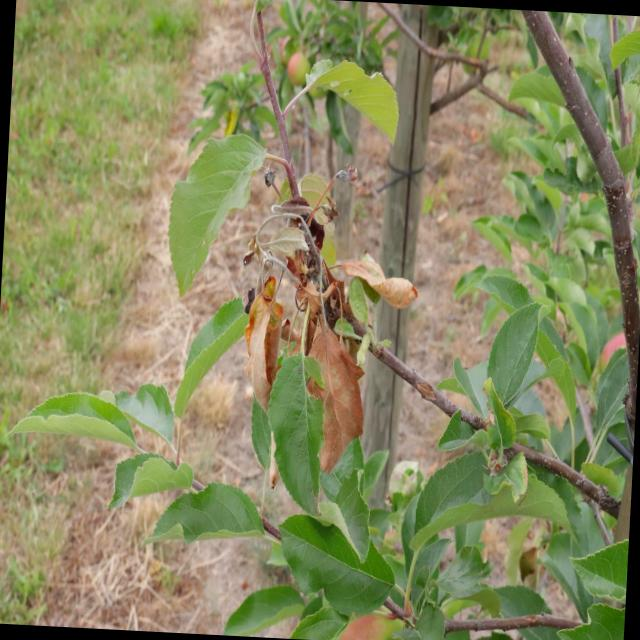-FireBlight-: (228, 227, 409, 468)
